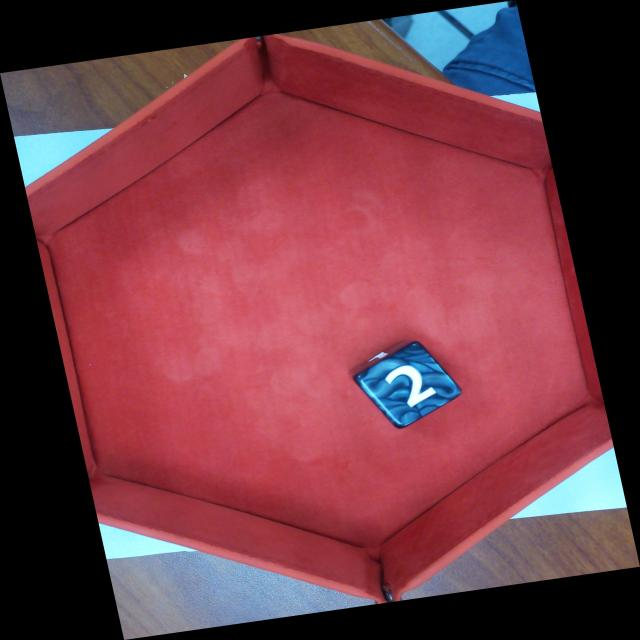dice: (351, 338, 468, 433)
